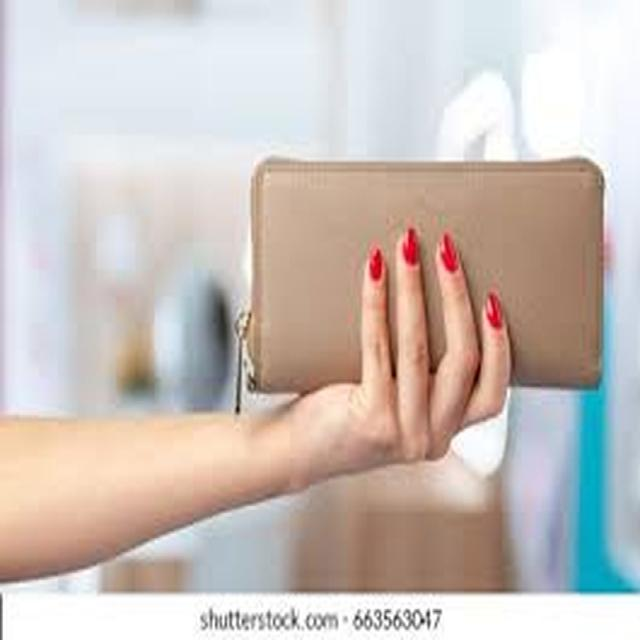wallet: (231, 129, 611, 423)
